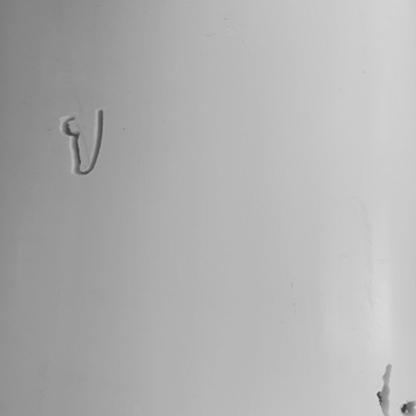fengxi: (55, 107, 110, 181)
kongdong: (375, 358, 399, 416), (392, 395, 416, 416)
